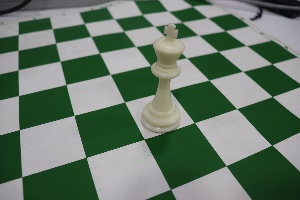white_king: (136, 12, 191, 138)
